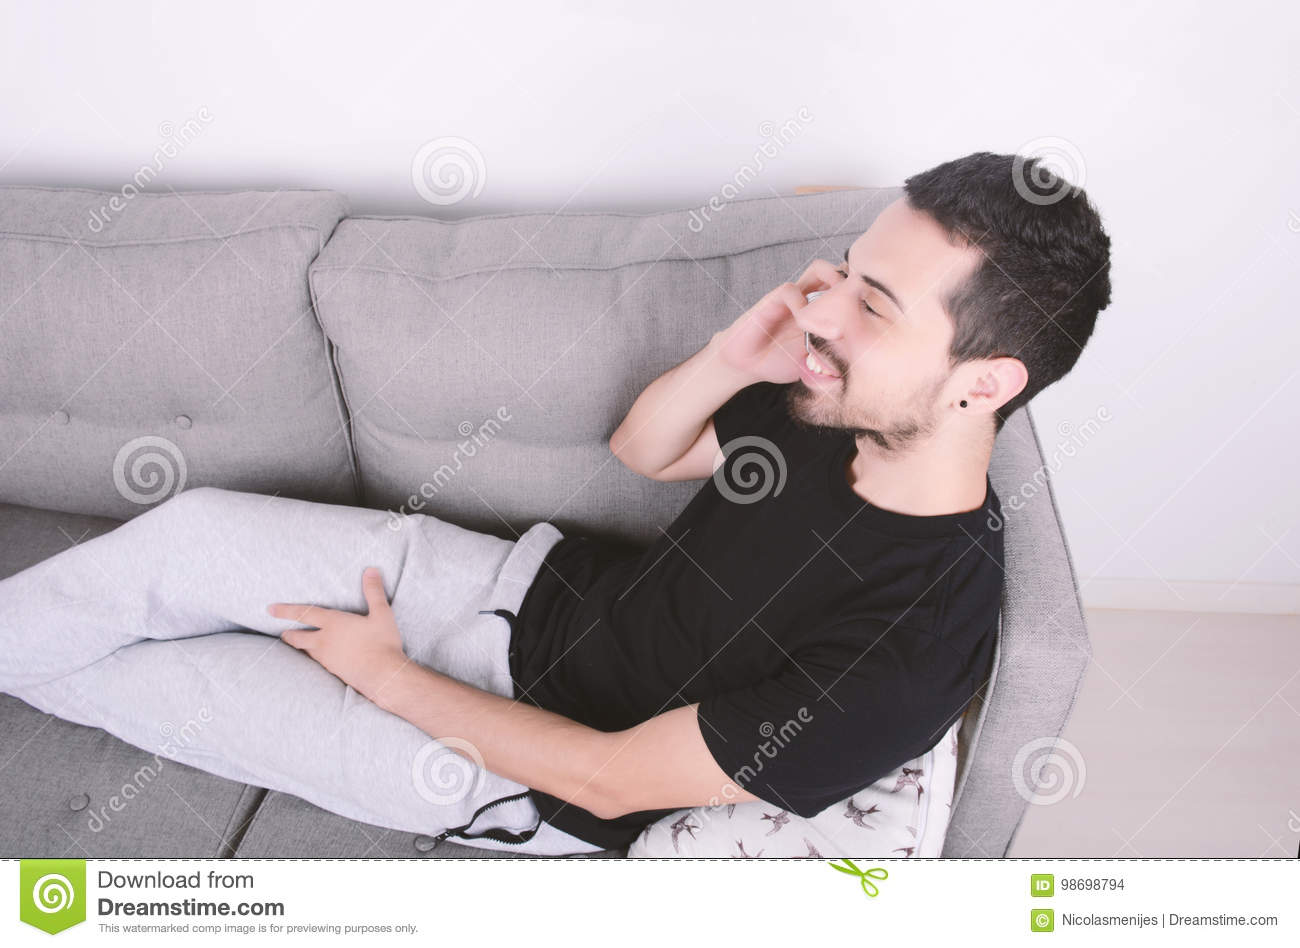talk: (724, 237, 909, 427)
